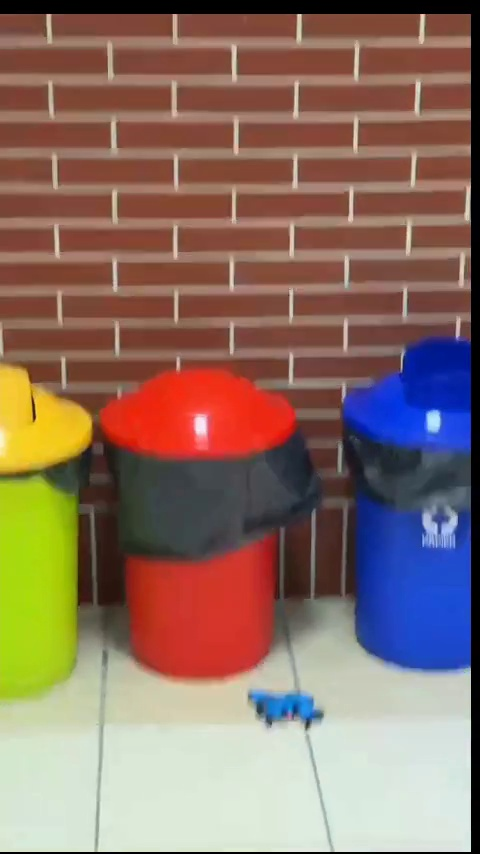drone: (251, 692, 319, 733)
